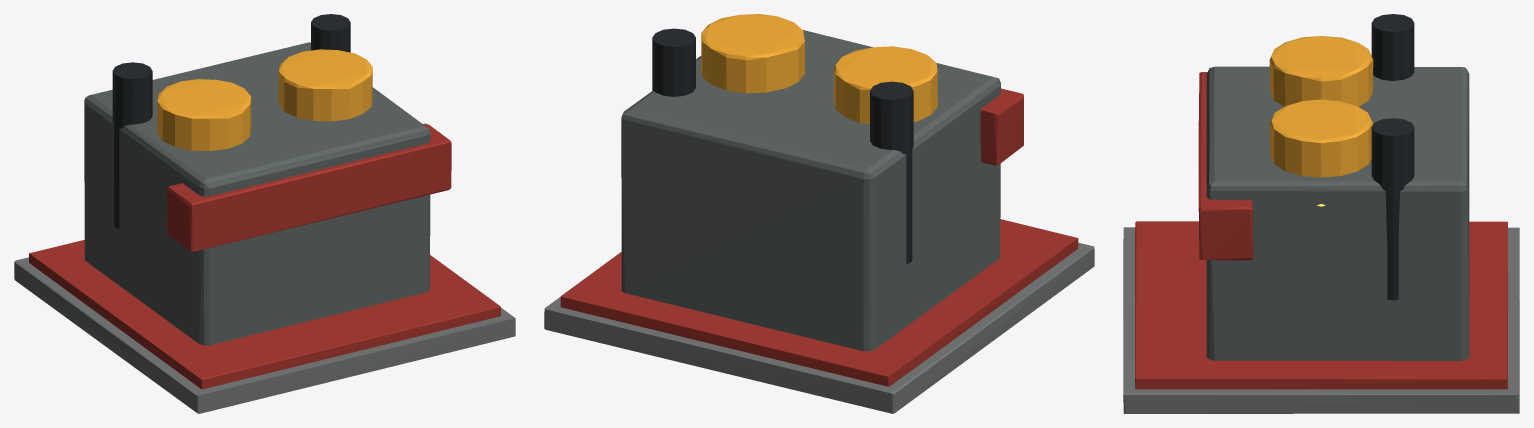
File: SM_Soviet_SU_PowerPlant_LOD1.fbx
3 views of the same model, side by side, from view 1: azimuth 30°, elevation 25°; view 2: azimuth 150°, elevation 25°; view 3: azimuth 270°, elevation 25° (orthographic). The views are drawn at different scales.
Parts seen in each view (by area): view 1: LOD01_SM_Soviet_SU_PowerPlant; view 2: LOD01_SM_Soviet_SU_PowerPlant; view 3: LOD01_SM_Soviet_SU_PowerPlant.
Boxes of the visible parts, x1,y1,x2,y2 form: LOD01_SM_Soviet_SU_PowerPlant: (14,14,515,413); LOD01_SM_Soviet_SU_PowerPlant: (544,14,1094,413); LOD01_SM_Soviet_SU_PowerPlant: (1123,14,1519,413).
Size of the model in its own units: 599 by 598 by 426.
